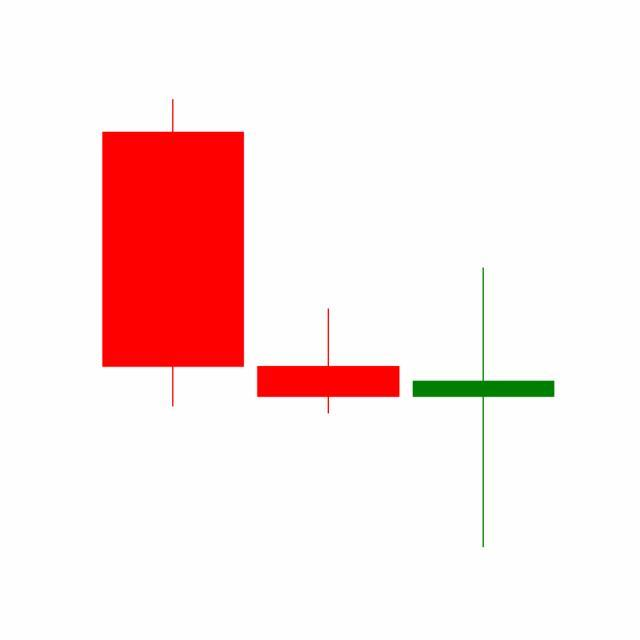Spinning Top: (406, 265, 562, 551)
